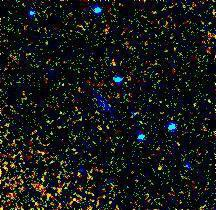star: (143, 155, 173, 185)
